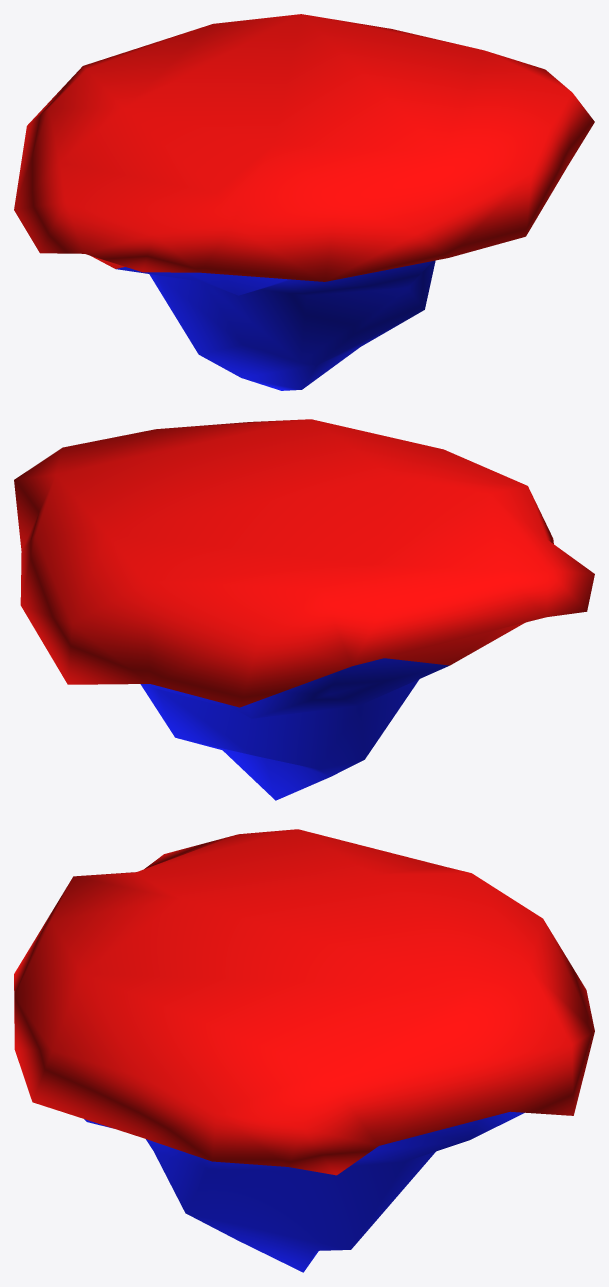
The model's file is Rock_Island_1.fbx.
The picture shows the model from 3 angles, top to bottom: view 1: azimuth 30°, elevation 25°; view 2: azimuth 150°, elevation 25°; view 3: azimuth 270°, elevation 25°; orthographic projection. The views are drawn at different scales.
Visible parts, largest first — view 1: Rock_Island_1; view 2: Rock_Island_1; view 3: Rock_Island_1.
Part boxes in pixels (box(x1,y1,x2,y2)): Rock_Island_1: box(14, 14, 594, 390); Rock_Island_1: box(14, 419, 594, 800); Rock_Island_1: box(14, 829, 594, 1272).
Bounding box in the file's own units: 1733 × 907 × 1407.
